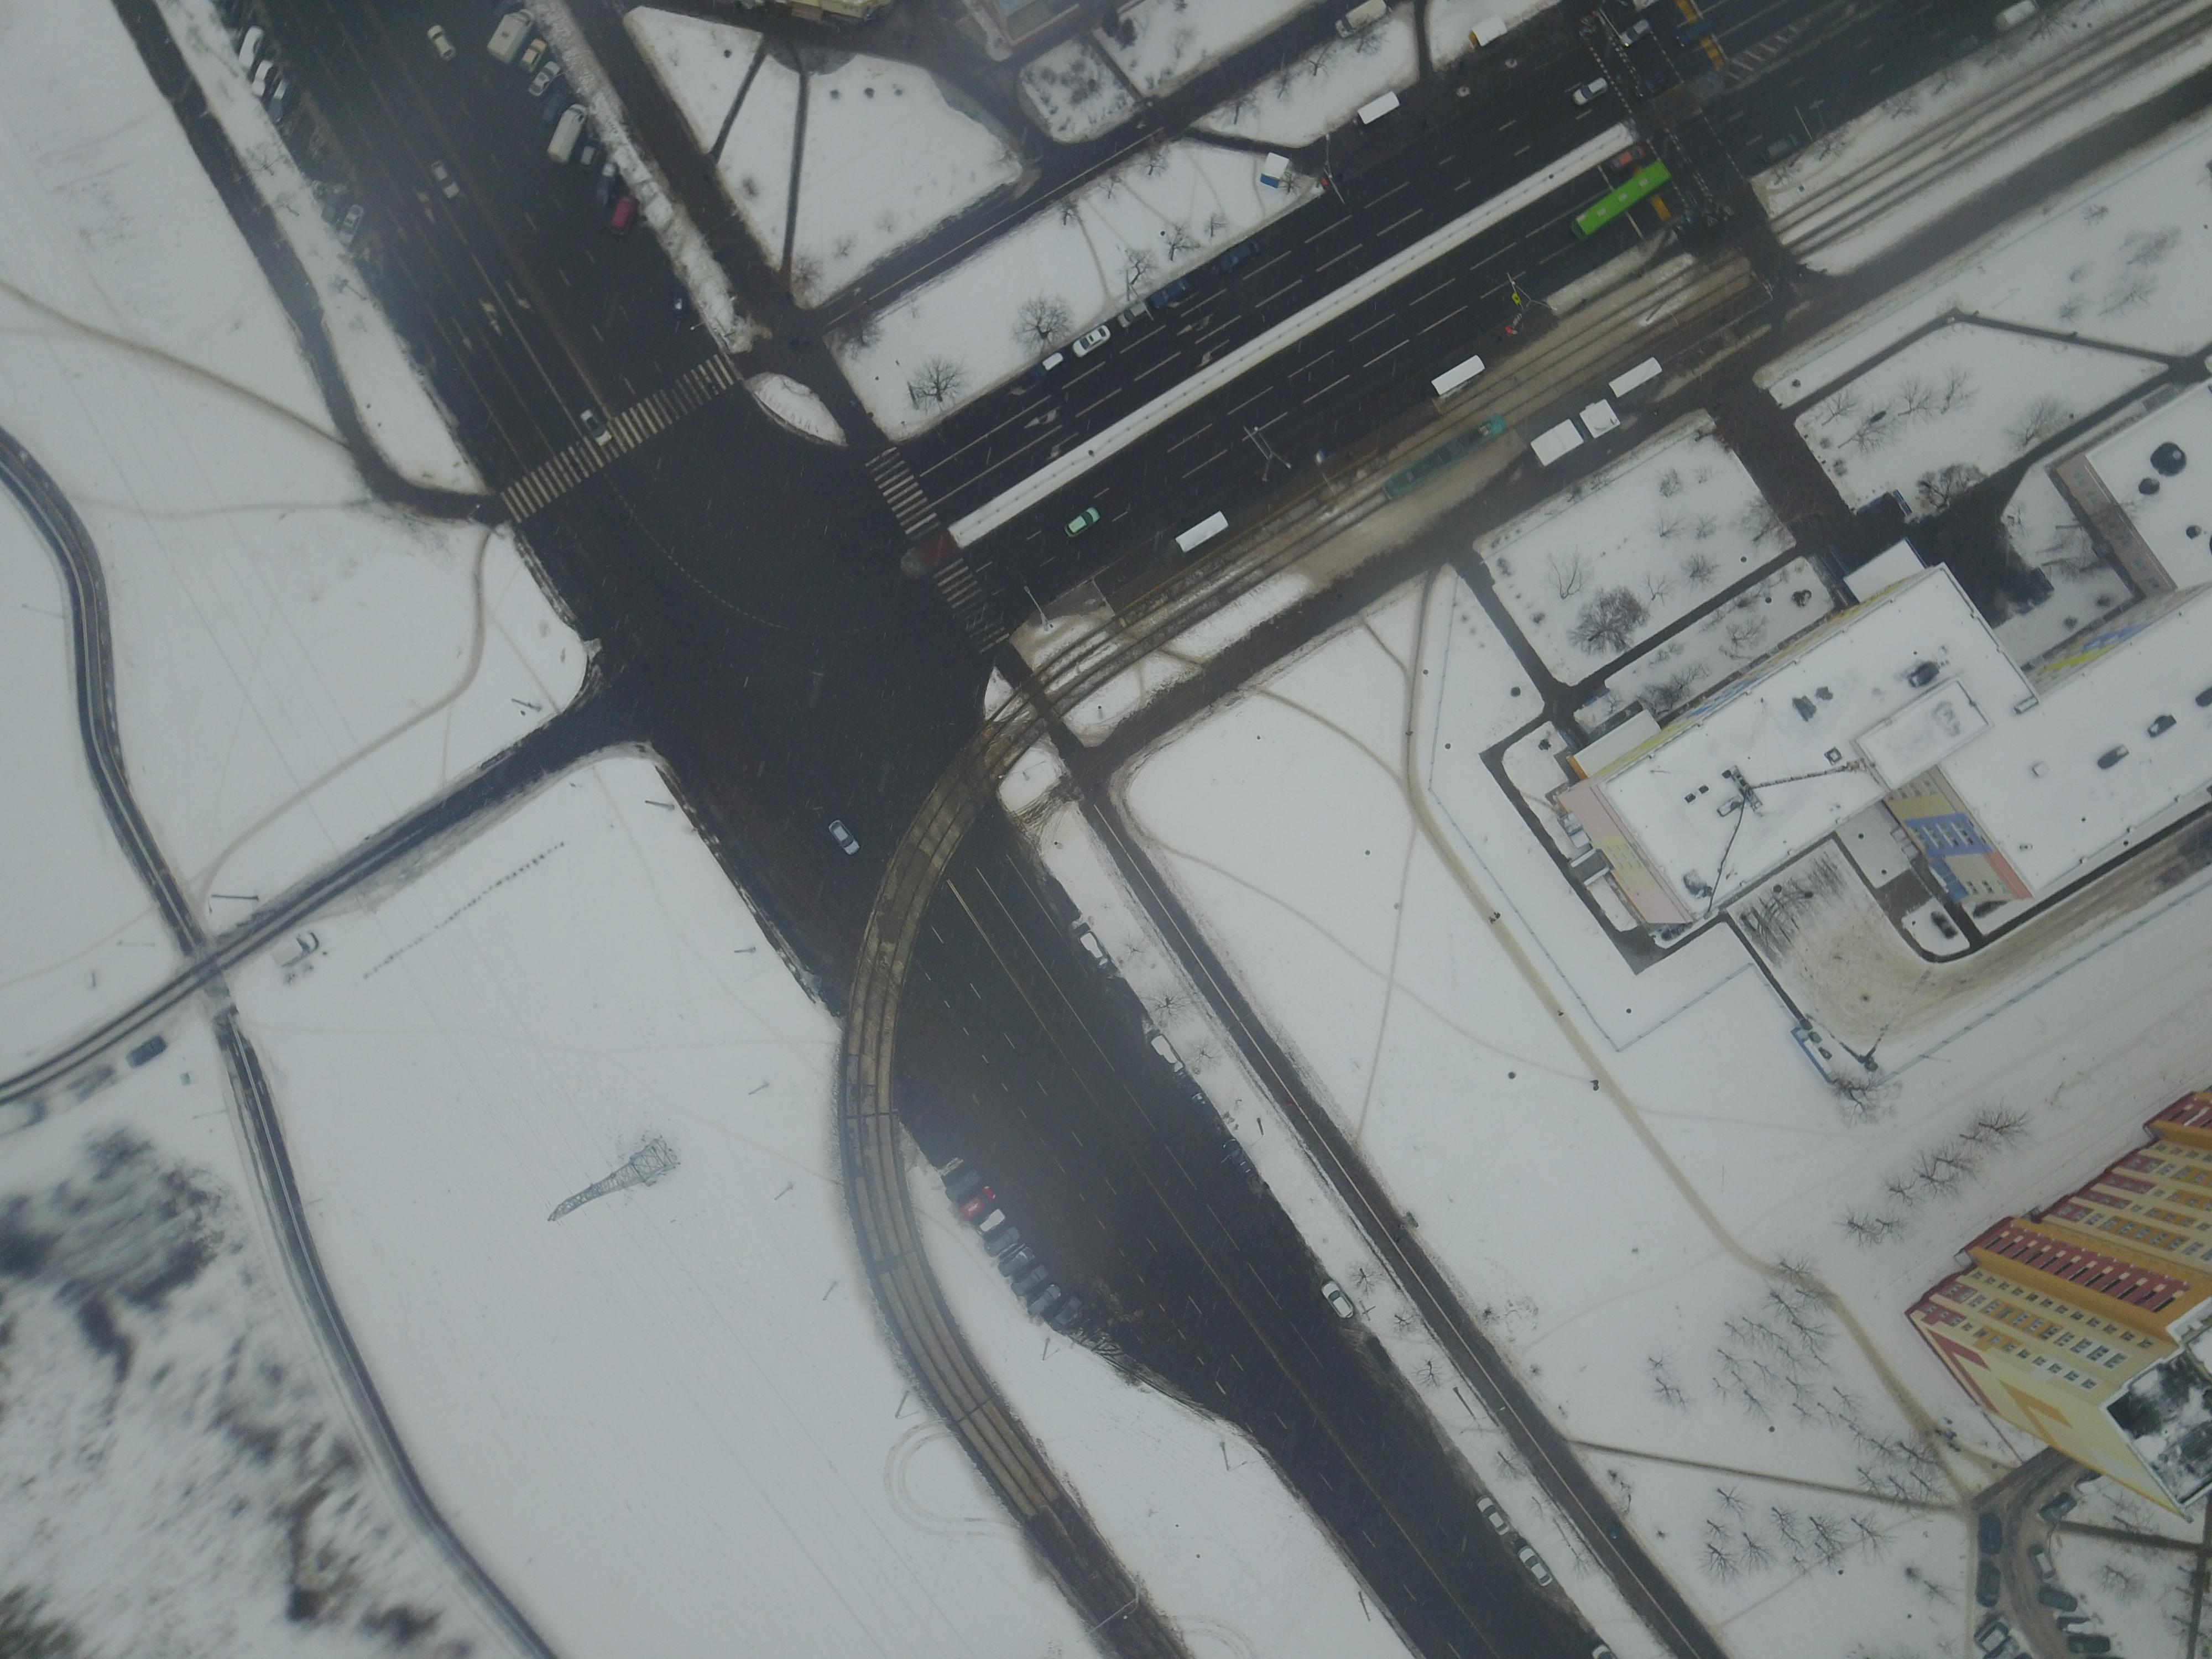car: (1148, 1032, 1190, 1084), (1221, 1136, 1259, 1182), (1179, 1080, 1217, 1124), (1216, 237, 1263, 272), (1517, 1544, 1554, 1588), (1474, 1493, 1510, 1537), (1076, 927, 1111, 972), (1028, 349, 1069, 385), (1975, 1614, 2012, 1656), (266, 75, 296, 125), (235, 26, 266, 73), (1069, 322, 1111, 357), (1674, 16, 1717, 49), (996, 1244, 1036, 1279), (1320, 1279, 1355, 1319), (1150, 275, 1191, 308), (427, 159, 460, 200), (320, 181, 352, 225), (2029, 1544, 2060, 1588), (1008, 1263, 1049, 1297), (425, 23, 458, 63), (336, 202, 366, 246), (2036, 1584, 2080, 1614), (960, 1185, 996, 1220), (827, 817, 860, 856), (1062, 505, 1101, 538), (2040, 1492, 2078, 1525), (1761, 132, 1801, 164), (249, 58, 279, 99), (1026, 1283, 1061, 1317), (944, 1169, 981, 1202), (984, 1225, 1021, 1258), (1049, 1295, 1082, 1331), (1571, 75, 1609, 106), (528, 61, 561, 96), (580, 408, 611, 444), (594, 159, 618, 206), (1606, 145, 1646, 173), (610, 197, 637, 237), (1979, 1561, 2003, 1607), (972, 1206, 1007, 1237), (516, 38, 547, 73), (1616, 19, 1653, 49), (1116, 298, 1151, 328), (2066, 1633, 2111, 1656), (577, 132, 601, 171), (1980, 1513, 2003, 1553), (669, 284, 690, 322), (2057, 1617, 2095, 1635)
